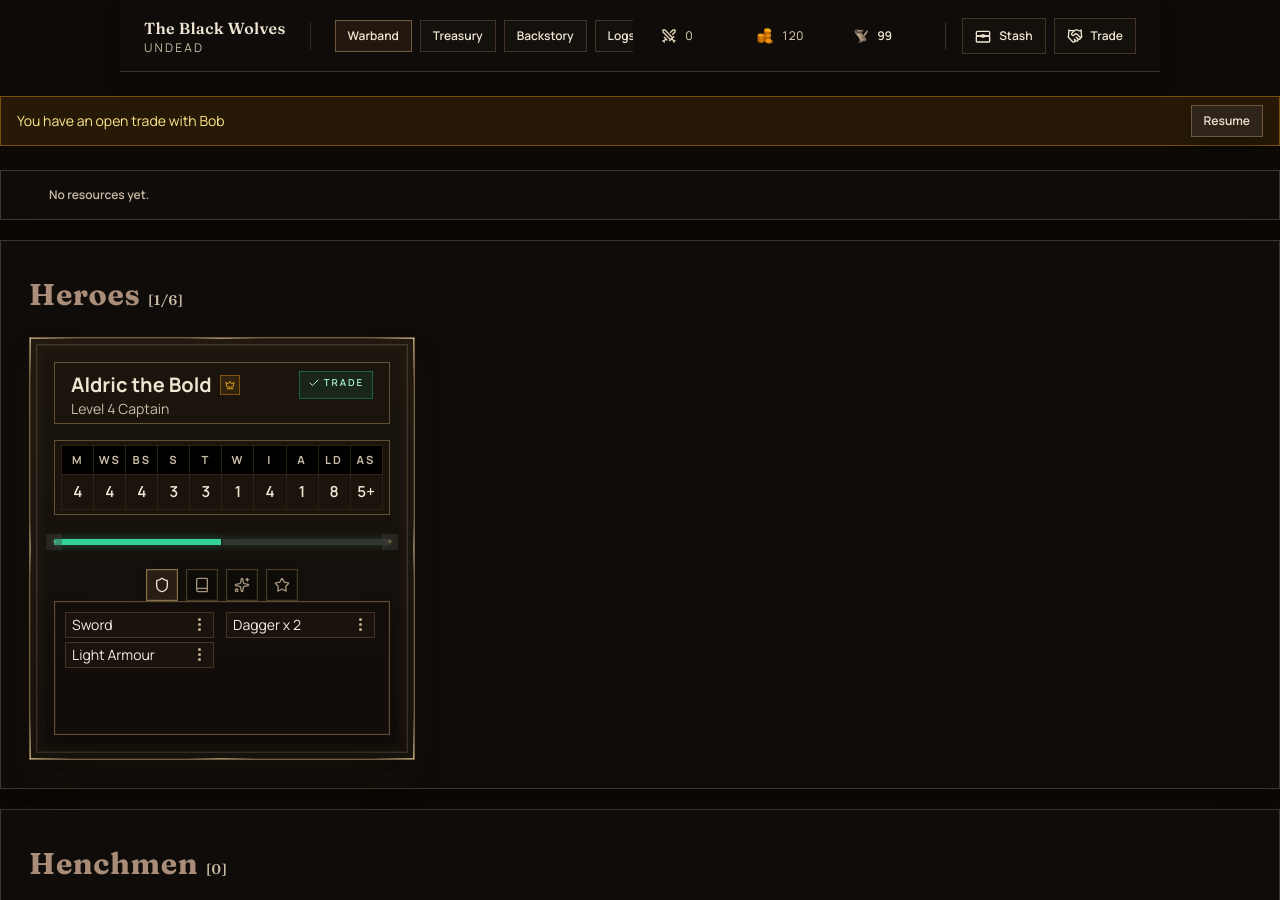
Test: Warband page: resuming an open trade › offers to resume your open trade, and Resume opens it
Expected: the element "open trade" shows "You have an open trade with Bob", x1=0 y1=96 x2=1279 y2=146
Click the button "Resume".
click(1227, 121)  # box x1=1190 y1=105 x2=1263 y2=137
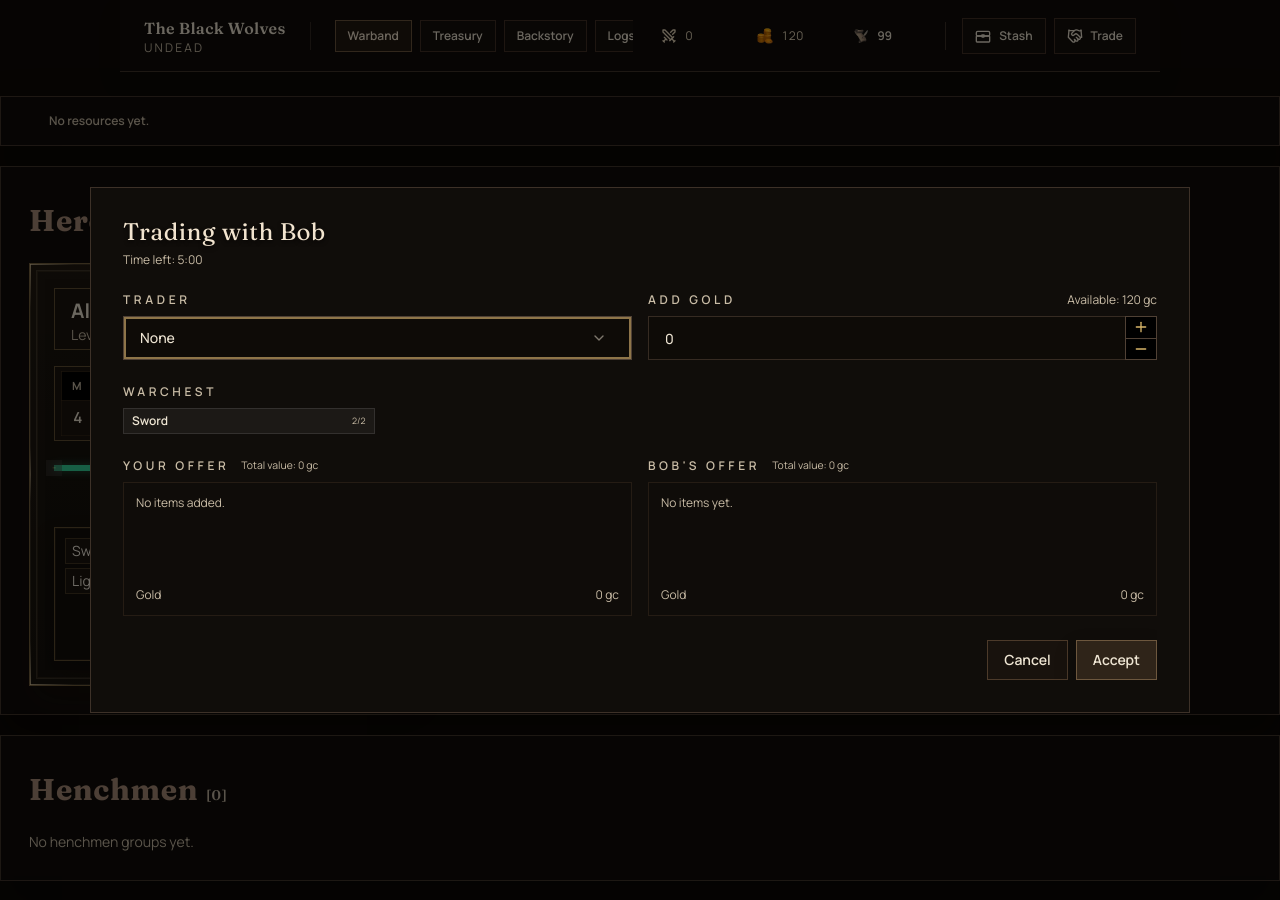
Expected: the dialog "Trading with Bob" is shown, x1=90 y1=187 x2=1190 y2=713
Expected: the text "open trade" is gone
